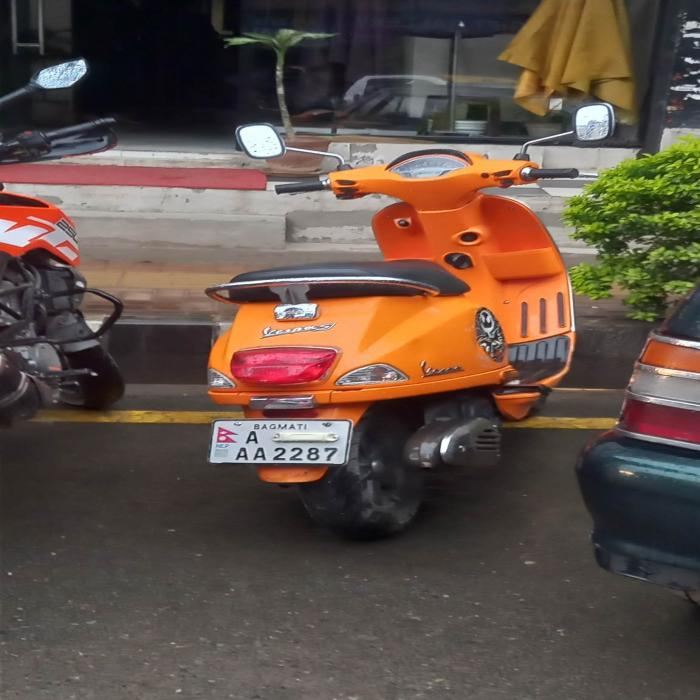number_plate: (211, 421, 341, 461)
